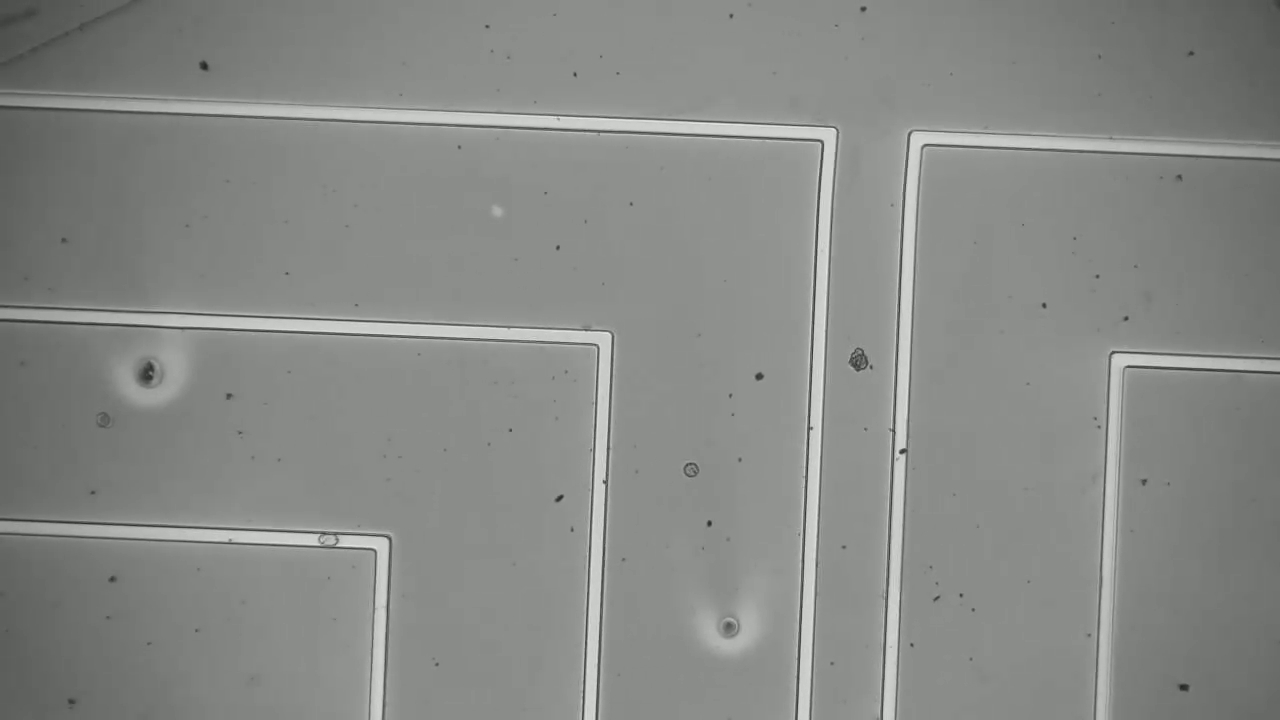scratch: (11, 1, 130, 64)
stains_enbedded: (312, 517, 353, 561), (886, 440, 914, 459)
